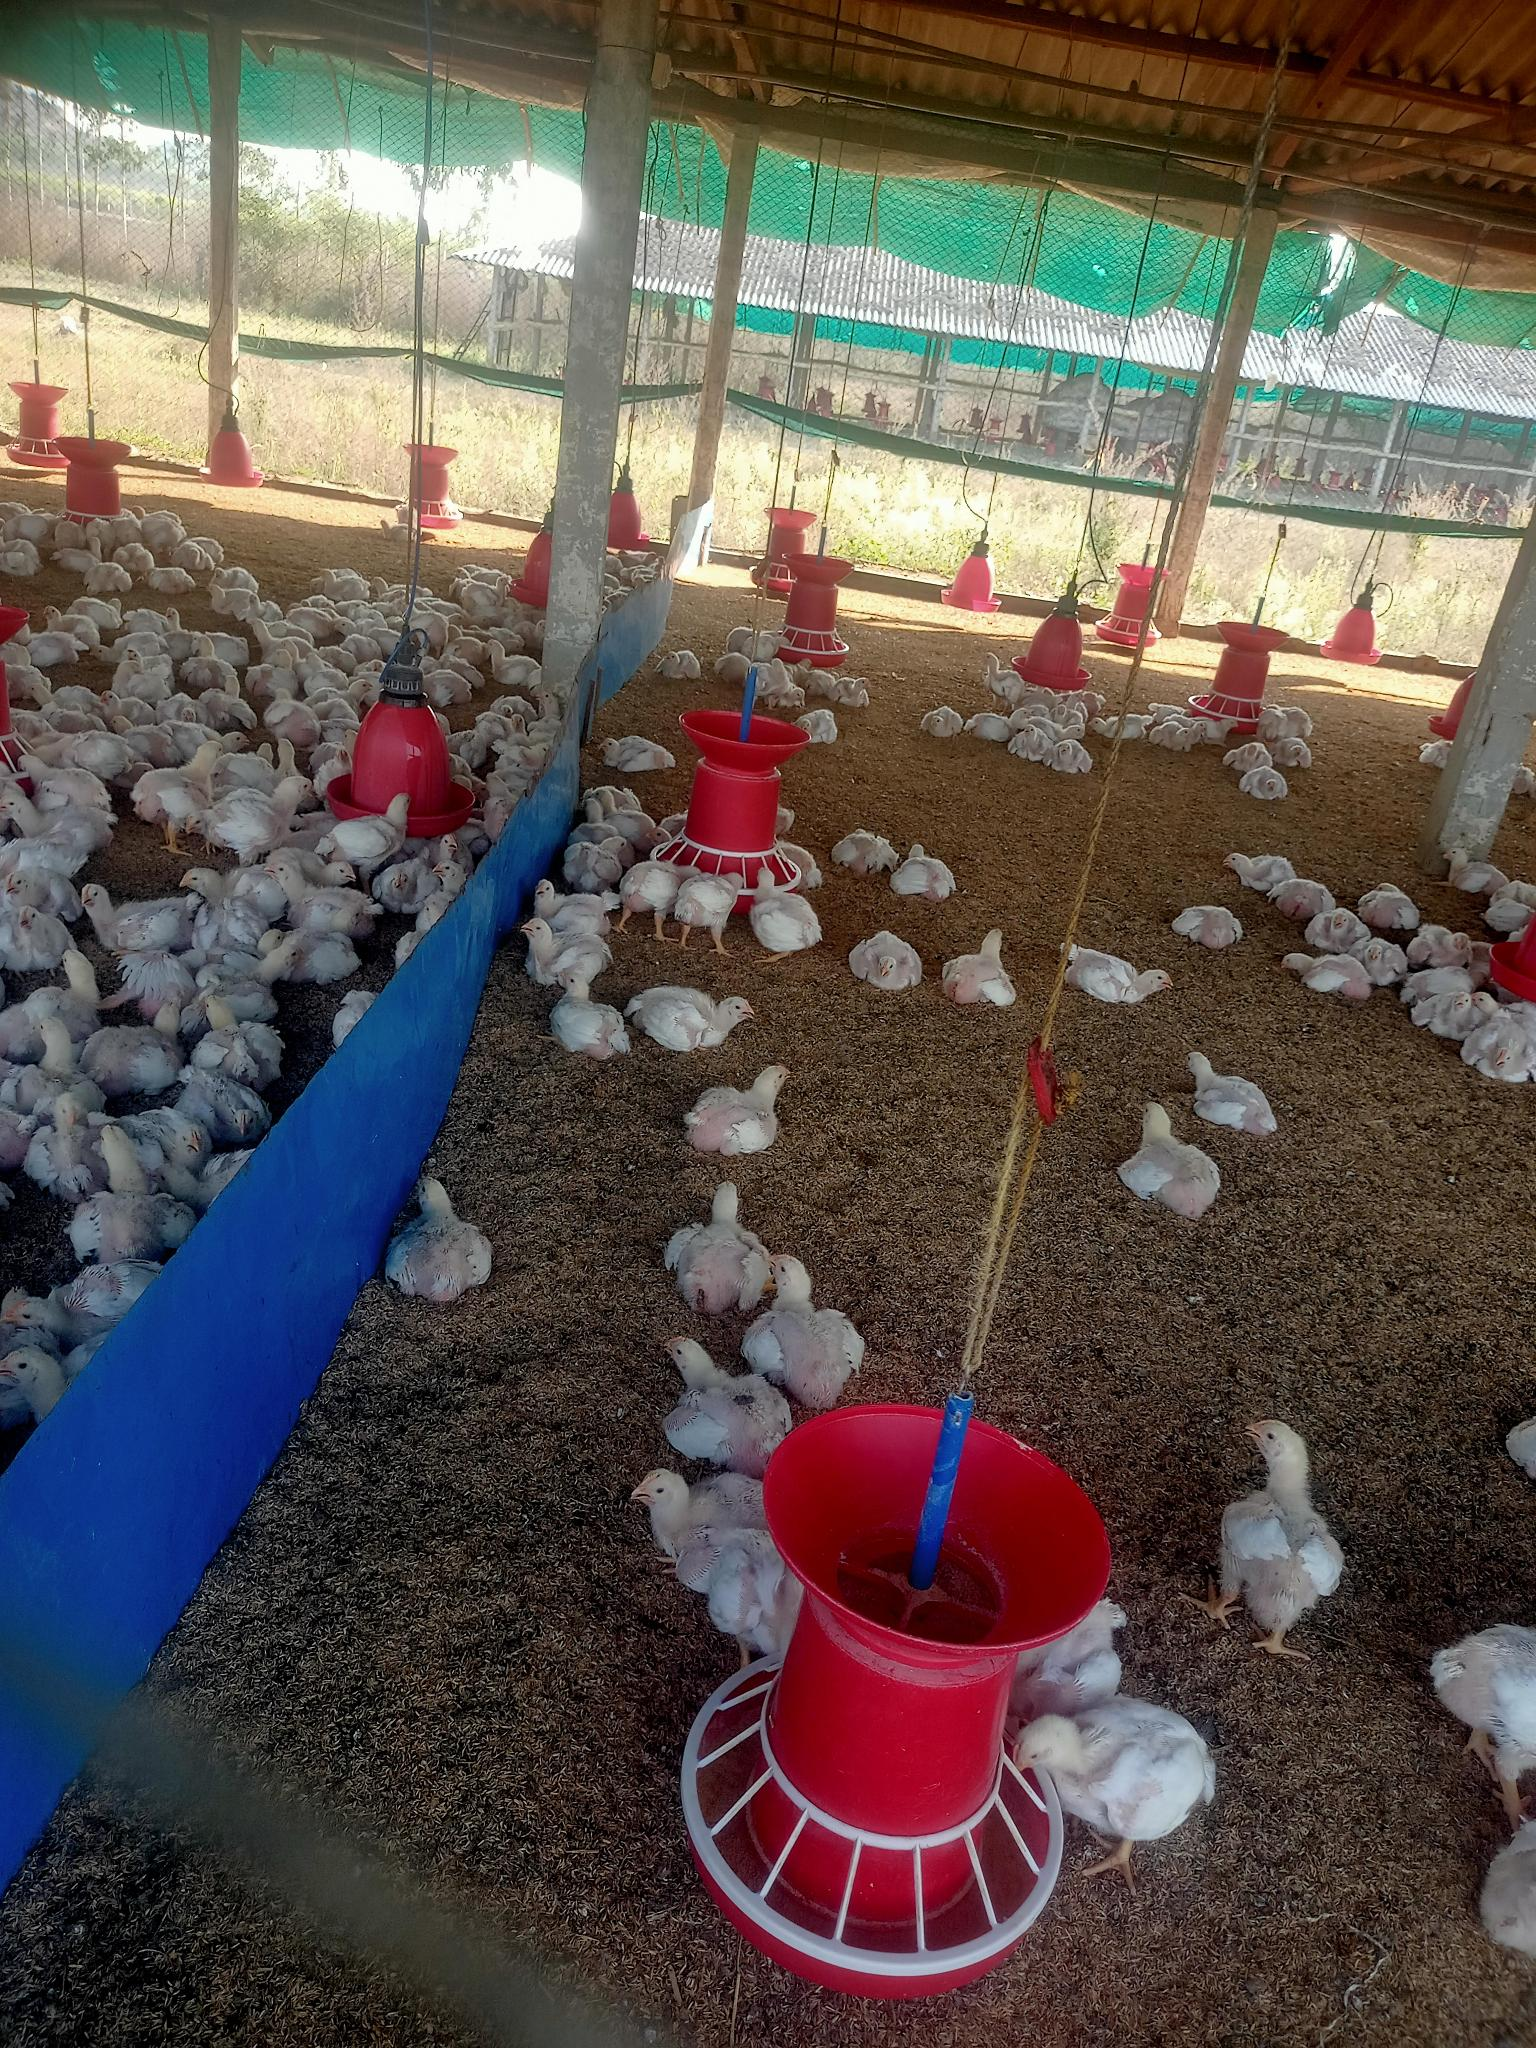Pollos: (1217, 1409, 1341, 1614), (1015, 1711, 1220, 1821), (653, 1326, 784, 1466), (632, 1467, 762, 1588), (665, 1172, 779, 1305), (390, 1176, 495, 1305), (750, 1250, 862, 1367), (1121, 1106, 1221, 1213), (1179, 1042, 1283, 1142), (694, 1063, 800, 1159), (626, 980, 752, 1053), (215, 777, 315, 856), (1060, 943, 1183, 1006), (278, 863, 384, 932), (750, 866, 824, 959), (553, 968, 626, 1056), (1468, 989, 1533, 1085), (1279, 948, 1379, 1006), (949, 922, 1016, 1005), (521, 918, 613, 977), (849, 930, 926, 992), (891, 842, 963, 901), (565, 834, 636, 892), (1221, 843, 1294, 890), (597, 732, 681, 772), (1179, 910, 1247, 943), (1309, 906, 1370, 943), (916, 701, 968, 742), (829, 672, 878, 714), (1046, 735, 1096, 776), (1241, 766, 1296, 801), (662, 648, 703, 677)
